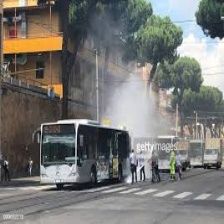smoke: (107, 85, 158, 133)
